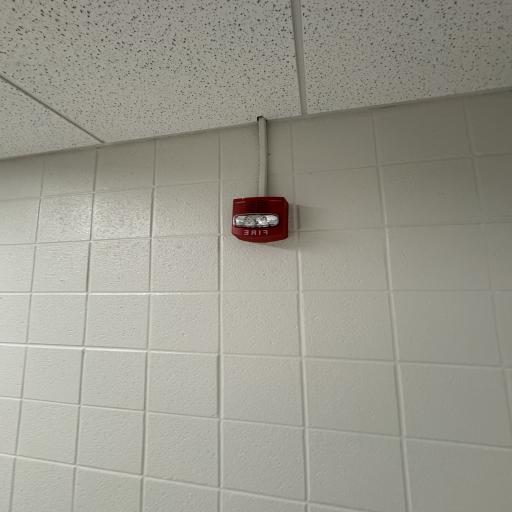fire alarm signal: (222, 192, 292, 240)
